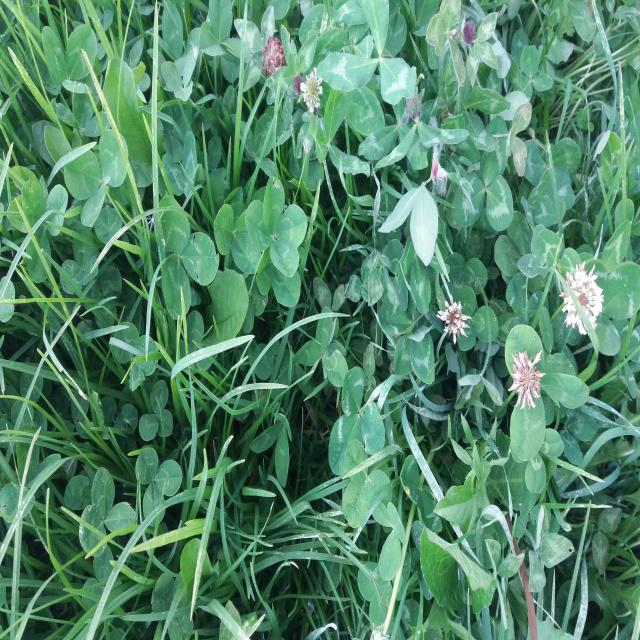Four Leaf Clover: (245, 175, 308, 278)
